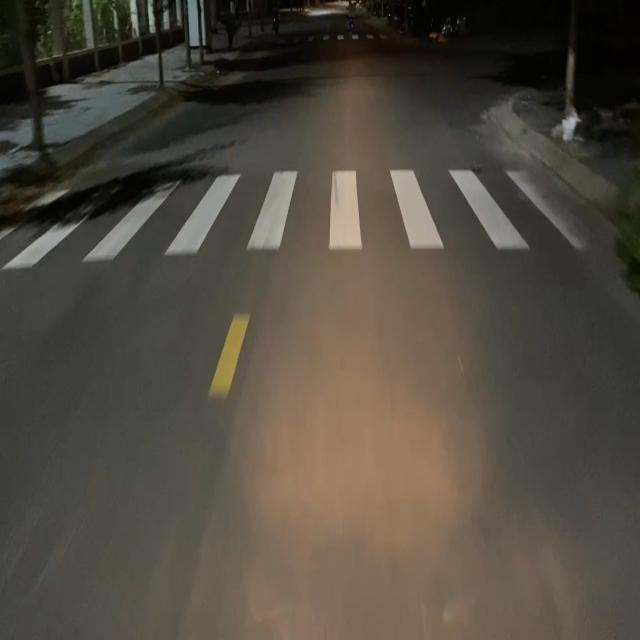walk-crossing: (0, 160, 588, 280)
